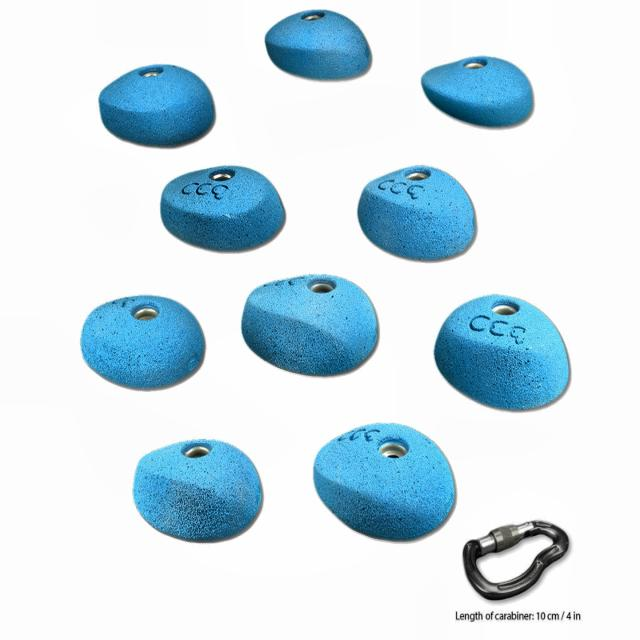Hold: (311, 424, 460, 539), (437, 296, 575, 412), (245, 273, 378, 377), (133, 437, 261, 542), (358, 160, 480, 262), (81, 294, 206, 388), (156, 167, 292, 252), (98, 64, 221, 149), (422, 52, 540, 126), (264, 8, 373, 82)
